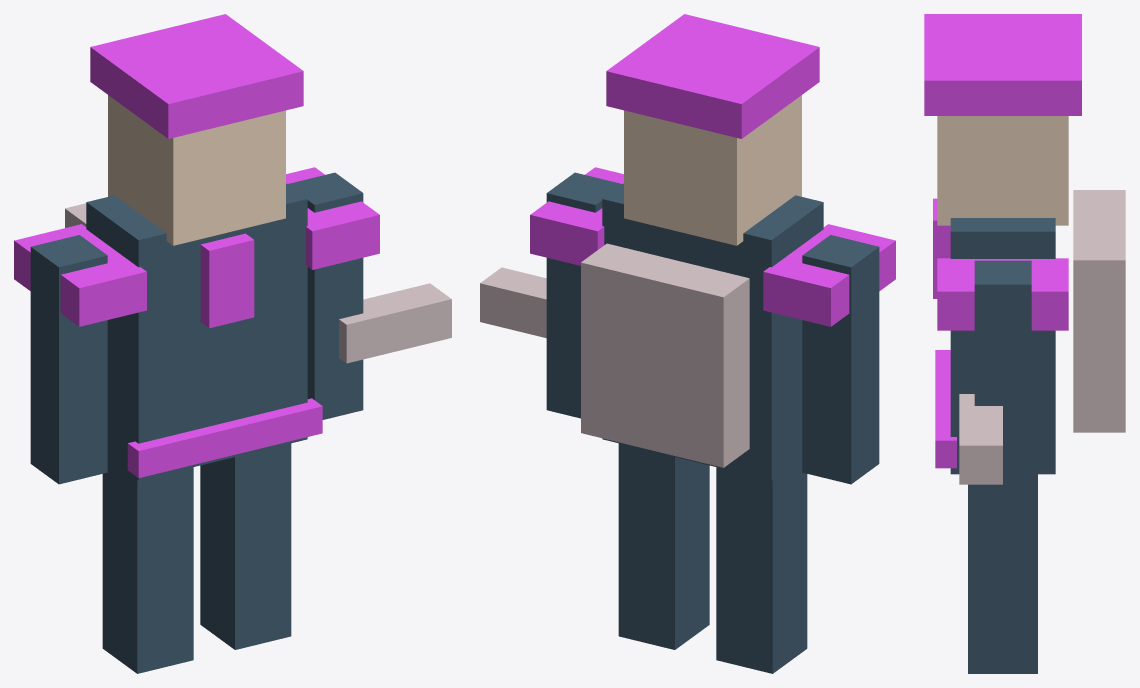
Rendered from 18_astra_holloway_runner_under_null.glb.
3 renders of one model, left to right at view 1: azimuth 30°, elevation 25°; view 2: azimuth 150°, elevation 25°; view 3: azimuth 270°, elevation 25°, orthographic.
Parts seen in each view (by area): view 1: Astra Holloway, Runner under Null; view 2: Astra Holloway, Runner under Null; view 3: Astra Holloway, Runner under Null.
Part boxes in pixels (x1=…): Astra Holloway, Runner under Null: x1=14, y1=14, x2=451, y2=673; Astra Holloway, Runner under Null: x1=480, y1=14, x2=895, y2=673; Astra Holloway, Runner under Null: x1=924, y1=14, x2=1125, y2=673.
Size of the model in its own units: 1.04 by 1.51 by 0.4672.
